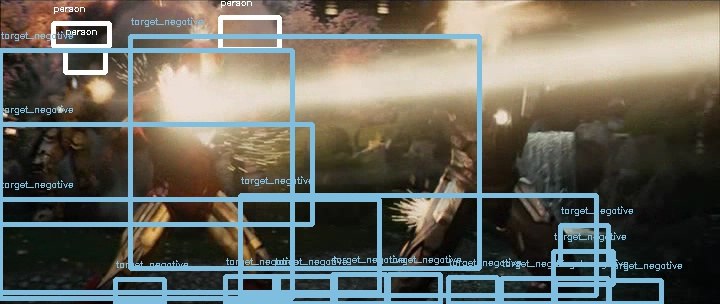person: (178, 37, 222, 86), (177, 37, 221, 86), (179, 37, 223, 86), (178, 36, 222, 85), (178, 38, 222, 87)
target_negative: (268, 143, 645, 175), (497, 94, 570, 163), (208, 278, 638, 289), (465, 209, 520, 274), (426, 270, 689, 278), (579, 192, 698, 194)
